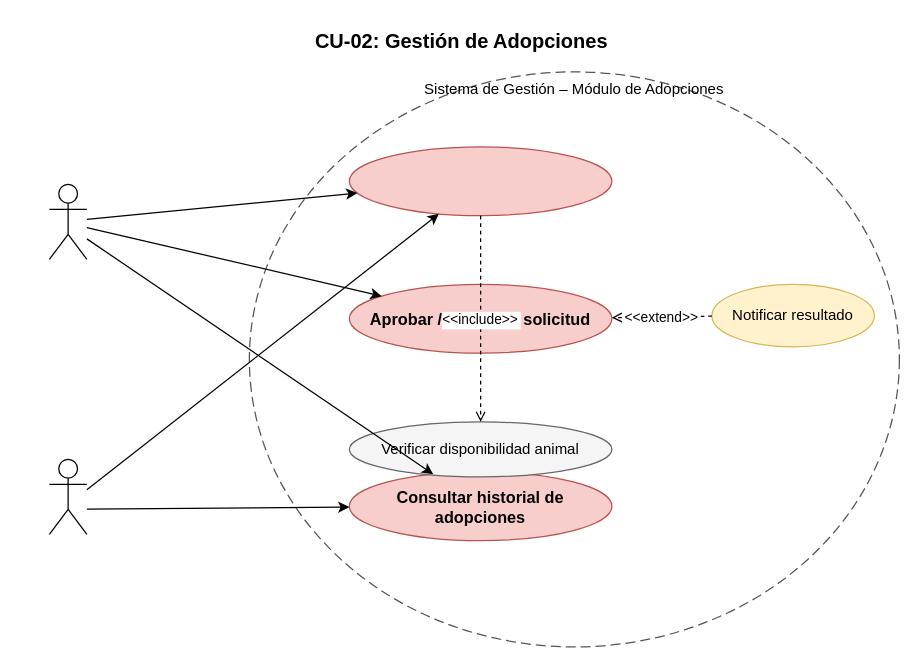
Some shapes in this 921 by 669 pixel diagram are drawn without their labels. The shapes that lost their labels are listed below. From the top down, each one's box as (x1, y1, x2, y2) in pixels, then its label:
(348, 146, 612, 216): Registrar solicitud de adopción
(48, 183, 87, 259): Administrador
(48, 458, 87, 534): Adoptante
